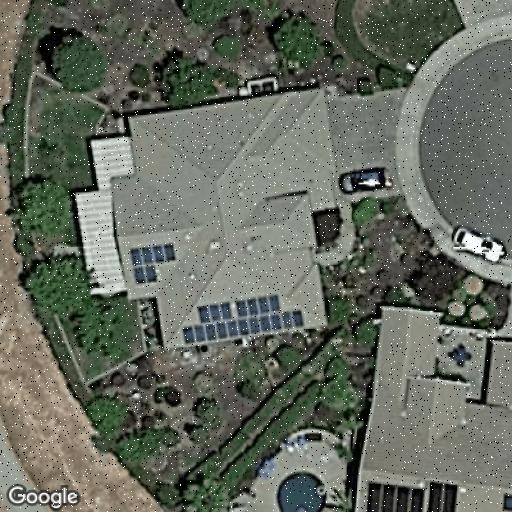solar-panel: (182, 291, 306, 346), (364, 477, 462, 512), (127, 241, 177, 285)
